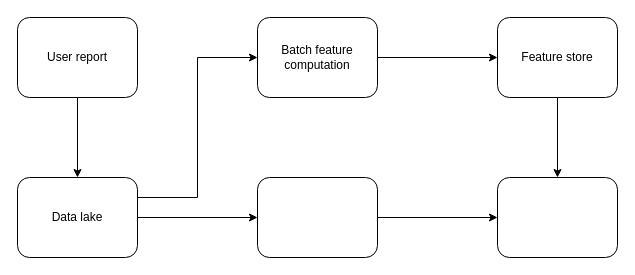
This 635x275 diagram has some shape labels left out. The shapes that lost their labels are listed below. From the top down, each one's centre as x and y in pixels, then its label:
At (x=317, y=217): "Dynamic feature computation".
At (x=557, y=217): "Training data".
